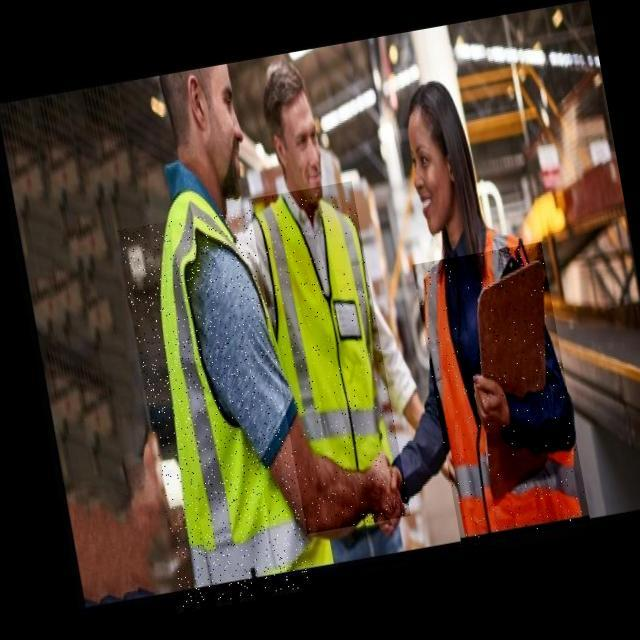Person: (402, 50, 593, 640), (100, 43, 266, 621), (266, 38, 403, 585)
Safety Vest: (116, 207, 316, 609), (248, 181, 410, 534), (412, 242, 591, 546)
bare-arms: (358, 442, 410, 552), (458, 365, 517, 435)
no-helmet: (404, 74, 478, 146), (268, 54, 308, 122)
